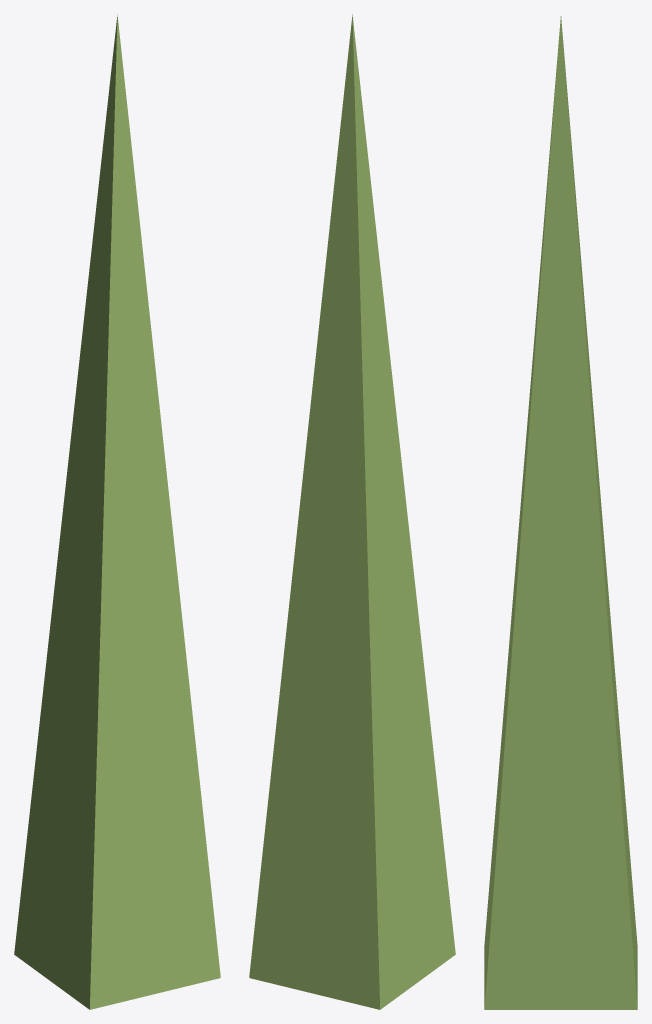
The model's file is Tree_1.fbx.
3 views of the same model, side by side, from view 1: azimuth 30°, elevation 25°; view 2: azimuth 150°, elevation 25°; view 3: azimuth 270°, elevation 25° (orthographic).
Parts seen in each view (by area): view 1: Tree_1; view 2: Tree_1; view 3: Tree_1.
Part boxes in pixels (x1,y1,x2,y2): Tree_1: [14, 14, 220, 1009]; Tree_1: [249, 14, 455, 1009]; Tree_1: [484, 16, 637, 1009].
Size of the model in its own units: 37.73 by 262 by 37.73.
1 material, 1 textured.
